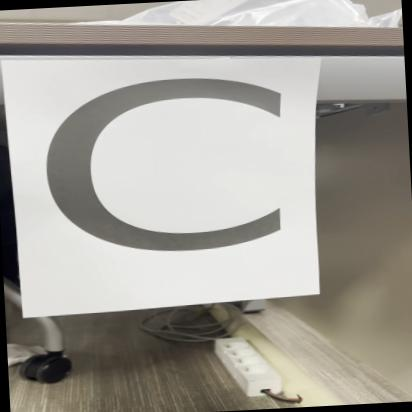seat: (8, 40, 329, 314)
